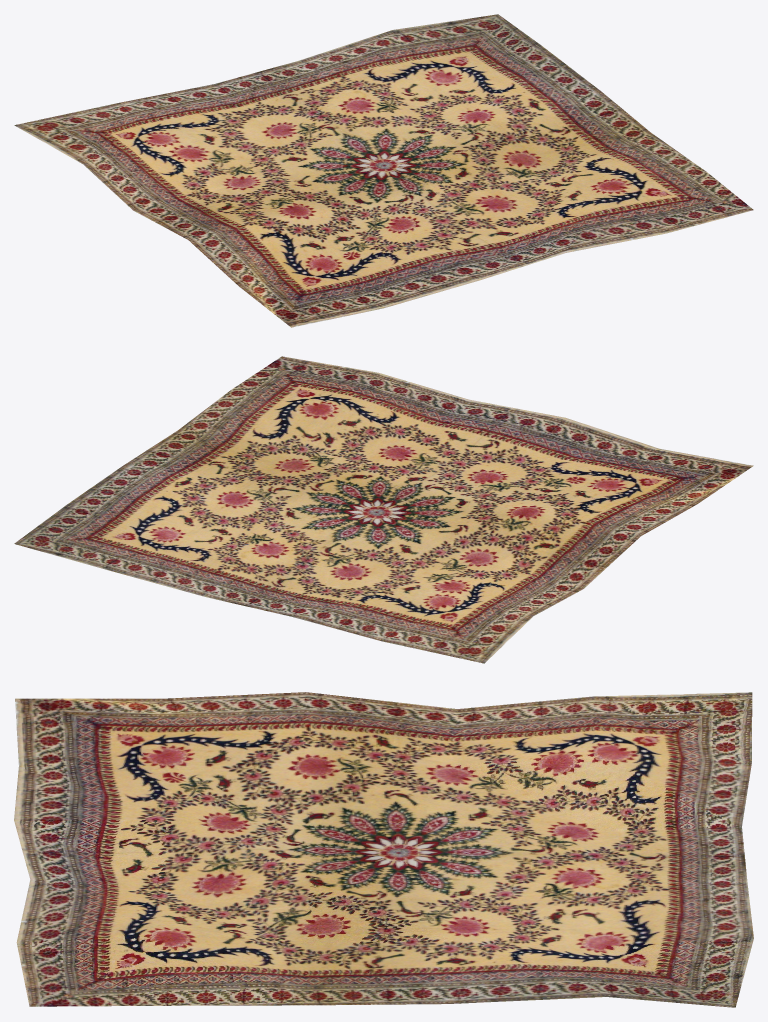
The model's file is rug.glb.
3 renders of one model, top to bottom at view 1: azimuth 30°, elevation 25°; view 2: azimuth 150°, elevation 25°; view 3: azimuth 270°, elevation 25°, orthographic. The views are drawn at different scales.
Parts seen in each view (by area): view 1: Rug; view 2: Rug; view 3: Rug.
Boxes of the visible parts, x1,y1,x2,y2 form: Rug: (14,14,753,327); Rug: (14,356,753,663); Rug: (14,692,753,1007).
Size of the model in its own units: 14.28 by 0.369 by 14.22.
Materials: 1 (1 with a texture image).
